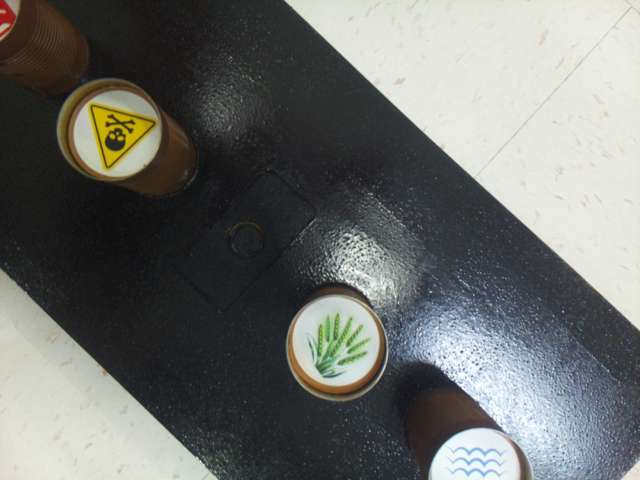toxic_fluid: (75, 93, 159, 175)
water_barrel: (430, 431, 523, 479)
wheat_barrel: (292, 299, 378, 387)
